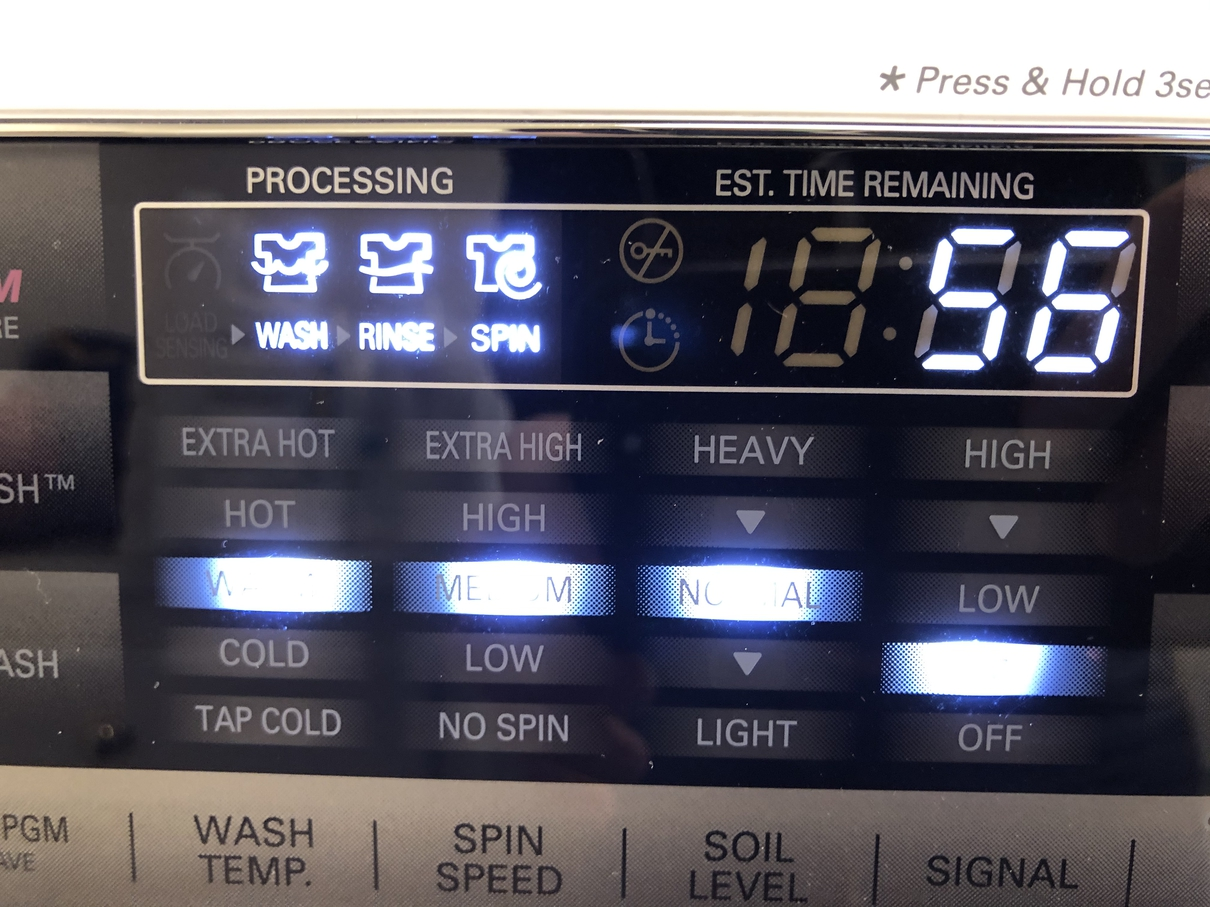status: (108, 141, 1174, 413)
